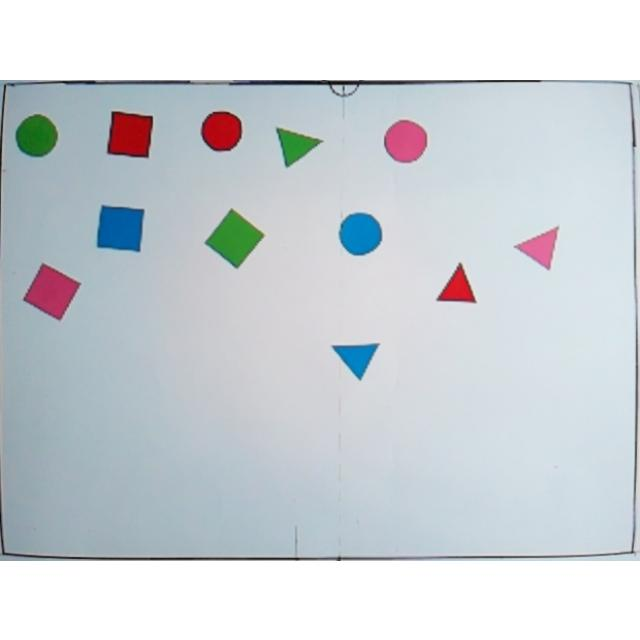blueCircle: (336, 210, 384, 256)
blueSquare: (94, 202, 150, 254)
blueTriangle: (328, 340, 384, 380)
greenCircle: (15, 111, 60, 159)
greenSquare: (203, 207, 267, 270)
greenTriangle: (271, 124, 325, 168)
pinkCircle: (382, 117, 428, 163)
pinkSquare: (22, 261, 82, 321)
pinkTriangle: (512, 220, 564, 270)
redCircle: (199, 110, 247, 152)
redSquare: (104, 108, 154, 158)
redTriangle: (434, 260, 482, 304)
